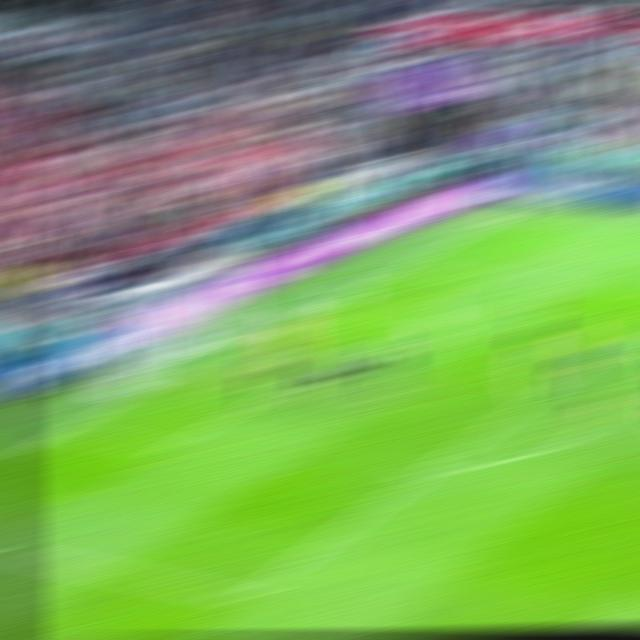bigarea_bottom_inner: (216, 576, 271, 620)
bigarea_top_outter: (381, 262, 419, 273)
bottom_arc_area_intersection: (403, 455, 454, 488)
corner: (494, 212, 527, 219)
smallarea_bottom_inner: (147, 440, 187, 459)
smallarea_bottom_outter: (43, 422, 83, 439)
smallarea_top_inner: (364, 330, 397, 335)
top_arc_area_intersection: (566, 363, 597, 374)
